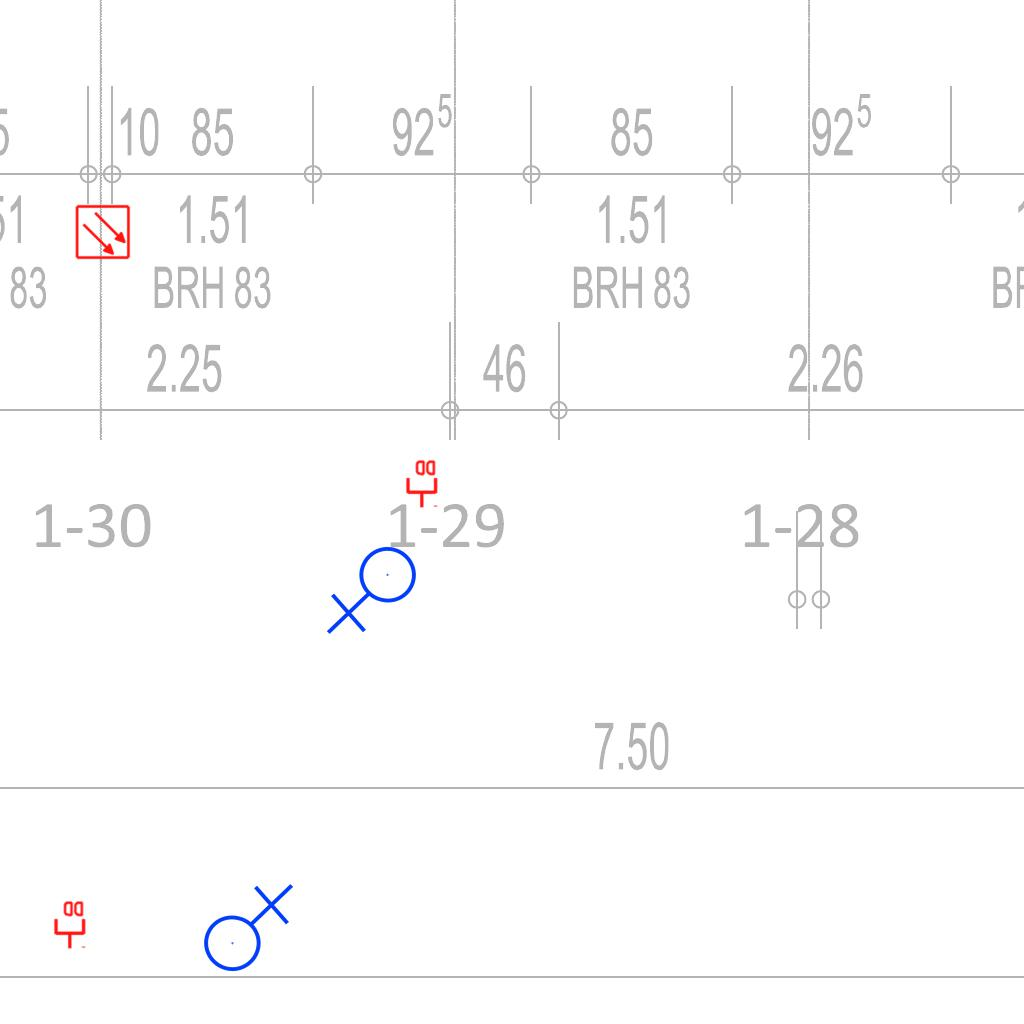Datenanschluss_zweifach: (404, 458, 438, 509), (52, 899, 86, 950)
Elektroanschluss_allgemein_230V_Geraeteanschlussdose_230V: (326, 545, 425, 639), (195, 879, 294, 973)
RMO_Rauchmelder_optischer: (75, 204, 131, 260)
